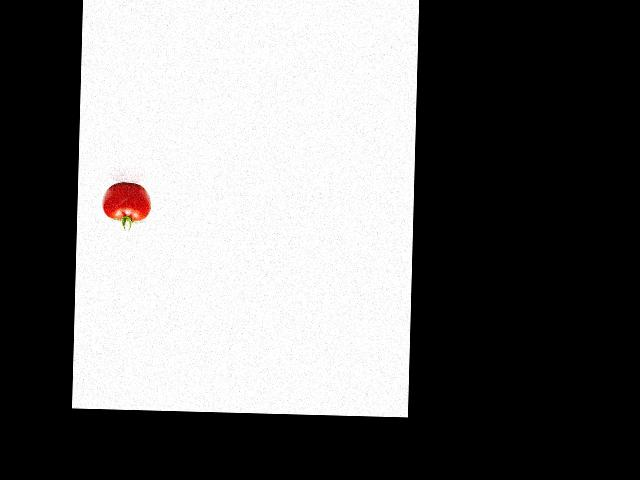tomato: (101, 182, 151, 221)
